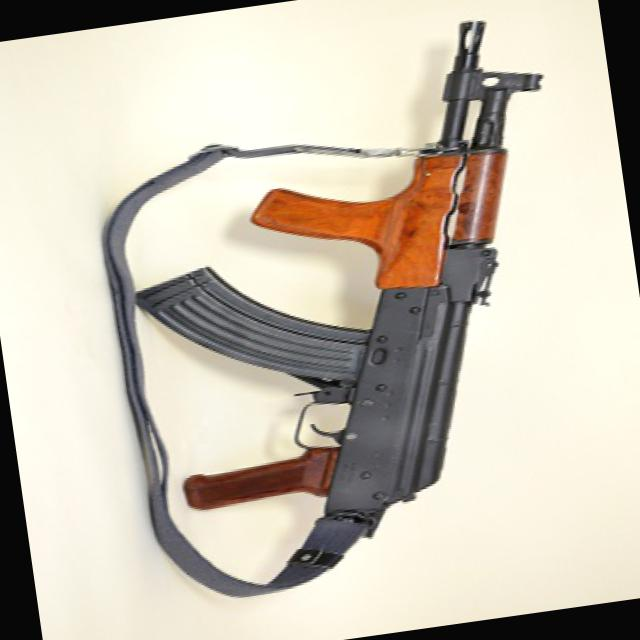long weapon: (99, 0, 616, 597)
